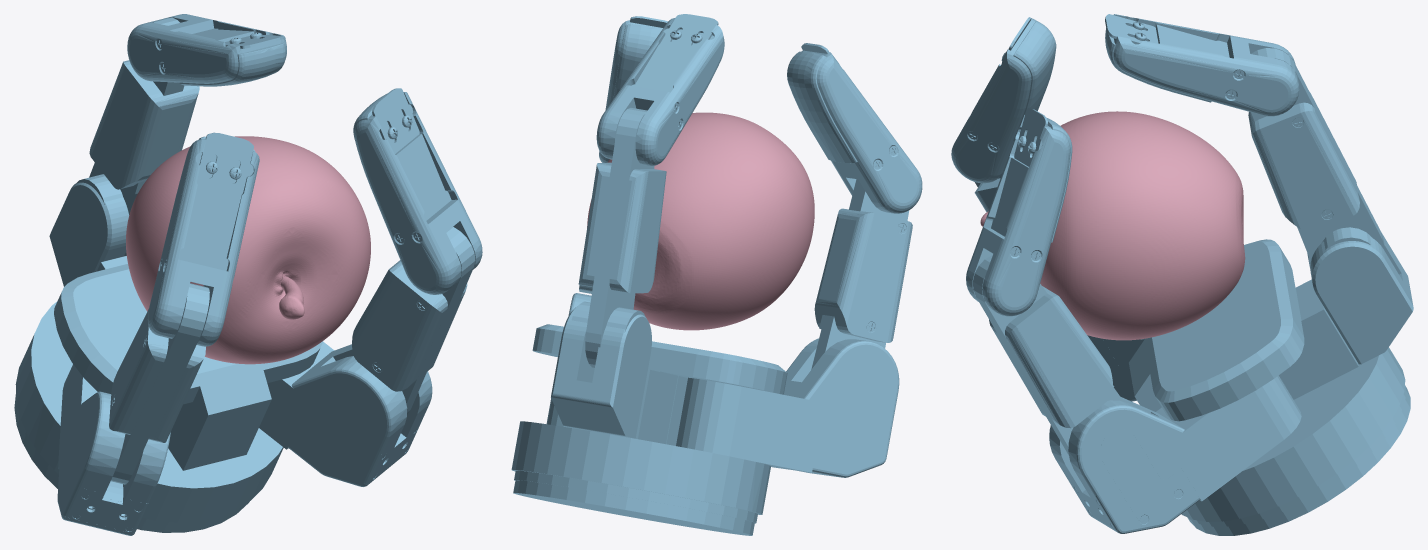
3 views of the same model, side by side, from view 1: azimuth 30°, elevation 25°; view 2: azimuth 150°, elevation 25°; view 3: azimuth 270°, elevation 25° (orthographic). The views are drawn at different scales.
Parts seen in each view (by area): view 1: world, apple.stl; view 2: world, apple.stl; view 3: world, apple.stl.
Part boxes in pixels (bbox=[...]): world: bbox=[14, 14, 482, 535]; apple.stl: bbox=[126, 136, 370, 364]; world: bbox=[511, 14, 922, 535]; apple.stl: bbox=[587, 112, 814, 330]; world: bbox=[951, 14, 1413, 535]; apple.stl: bbox=[980, 111, 1245, 340].
Size of the model in its own units: 0.1349 by 0.1837 by 0.1542.
